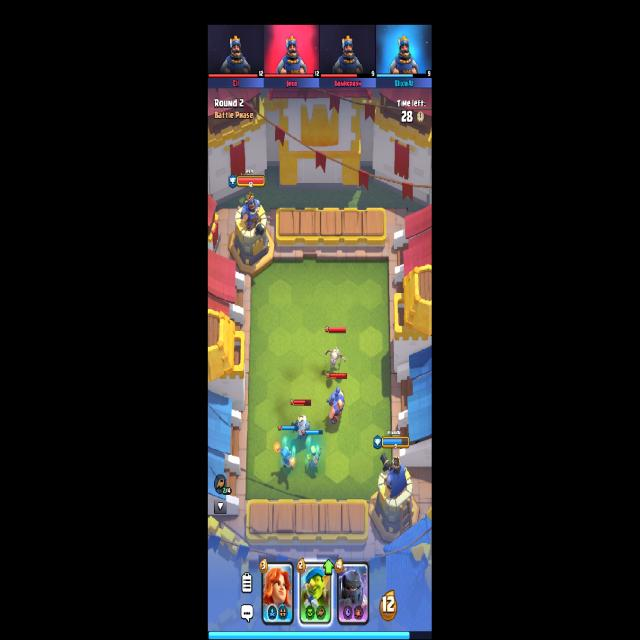card_mega_knight: (336, 561, 369, 624)
card_spear_goblin: (299, 561, 331, 624)
card_valkyrie: (262, 561, 294, 626)
electro_giant: (326, 388, 346, 425)
royal_ghost: (291, 414, 312, 441)
skeleton_dragon: (325, 346, 346, 371)
spear_goblin: (306, 444, 323, 470)
wizard: (275, 441, 296, 469)
